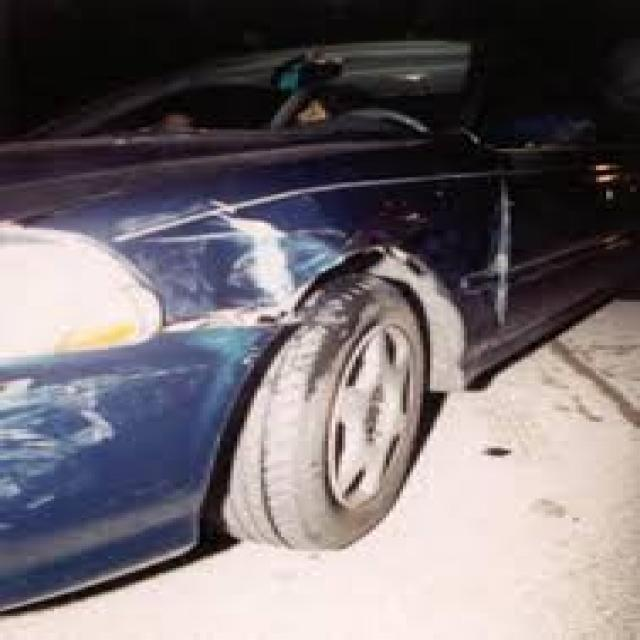minor: (116, 184, 327, 361)
